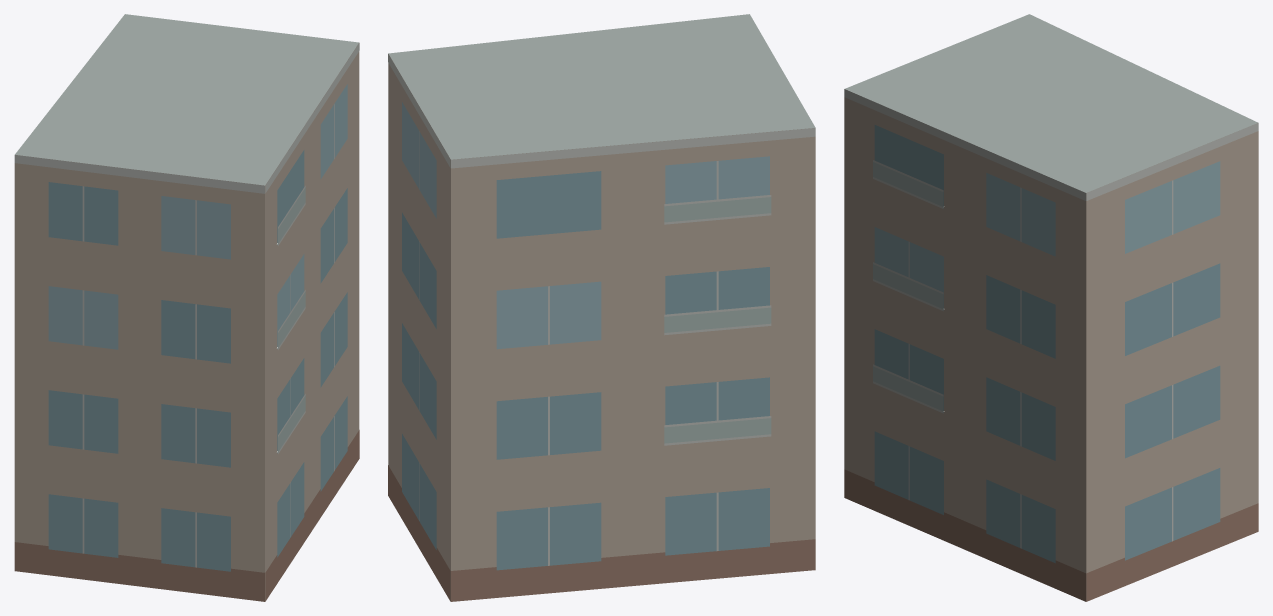
Rendered from survey-upis-33007604.glb.
3 views of the same model, side by side, from view 1: azimuth 30°, elevation 25°; view 2: azimuth 150°, elevation 25°; view 3: azimuth 270°, elevation 25° (orthographic). The views are drawn at different scales.
Visible parts, largest first — view 1: survey-upis-33007604.tmp; view 2: survey-upis-33007604.tmp; view 3: survey-upis-33007604.tmp.
Part boxes in pixels (x1,y1,x2,y2): survey-upis-33007604.tmp: (14, 14, 359, 601); survey-upis-33007604.tmp: (388, 14, 815, 601); survey-upis-33007604.tmp: (844, 14, 1258, 601).
Size of the model in its own units: 11.46 by 12.2 by 11.21.
